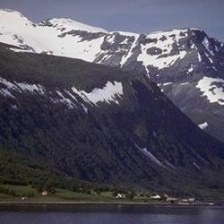neutral: (1, 7, 224, 222)
